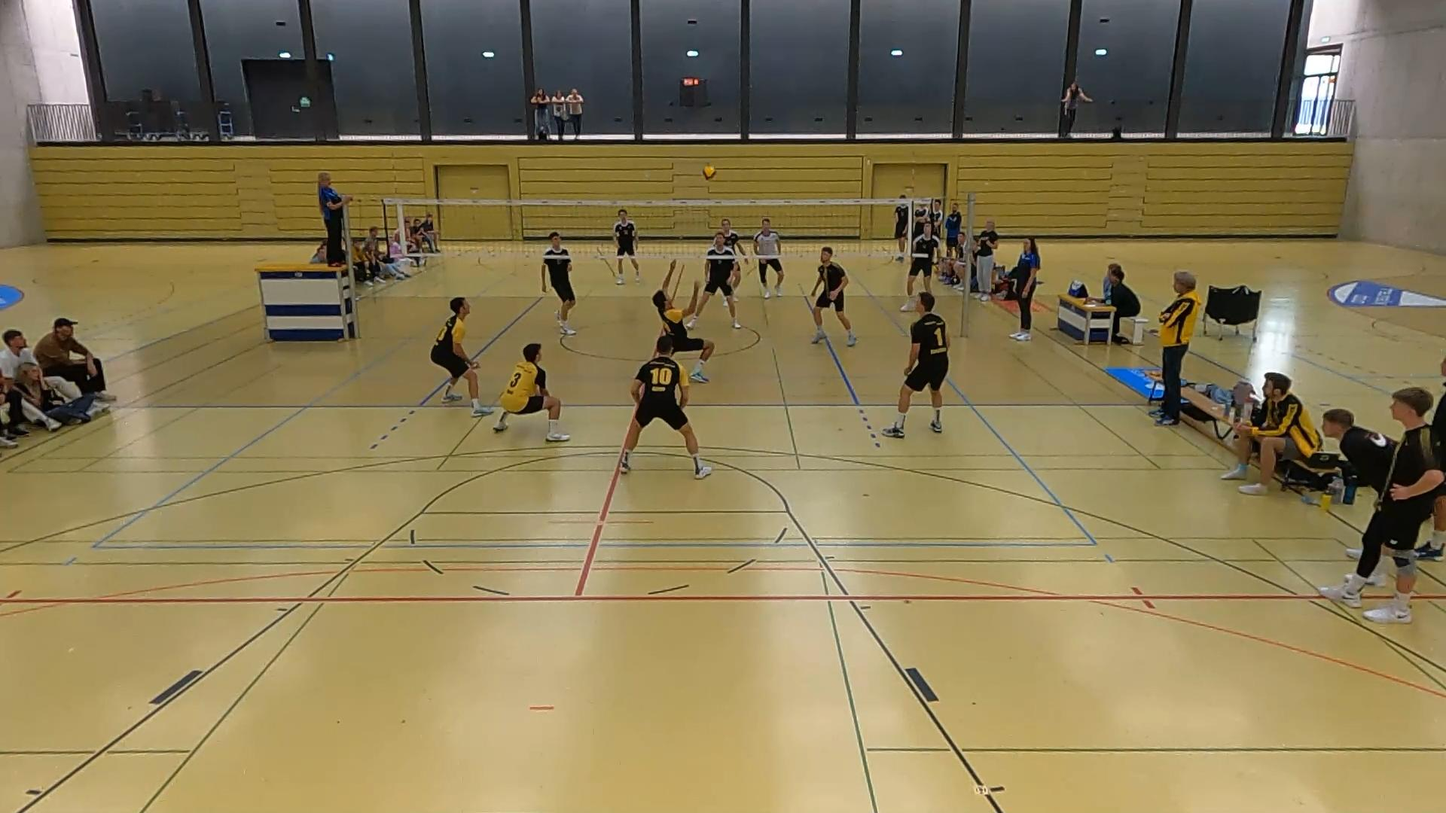Dig: (646, 252, 714, 396)
Player: (619, 336, 712, 479), (882, 291, 948, 438), (493, 343, 569, 441), (430, 297, 492, 416), (686, 232, 741, 328), (810, 246, 856, 346), (900, 220, 939, 311), (542, 231, 575, 335), (753, 218, 783, 299), (613, 209, 640, 285), (720, 218, 745, 257)
ball: (699, 163, 719, 181)
